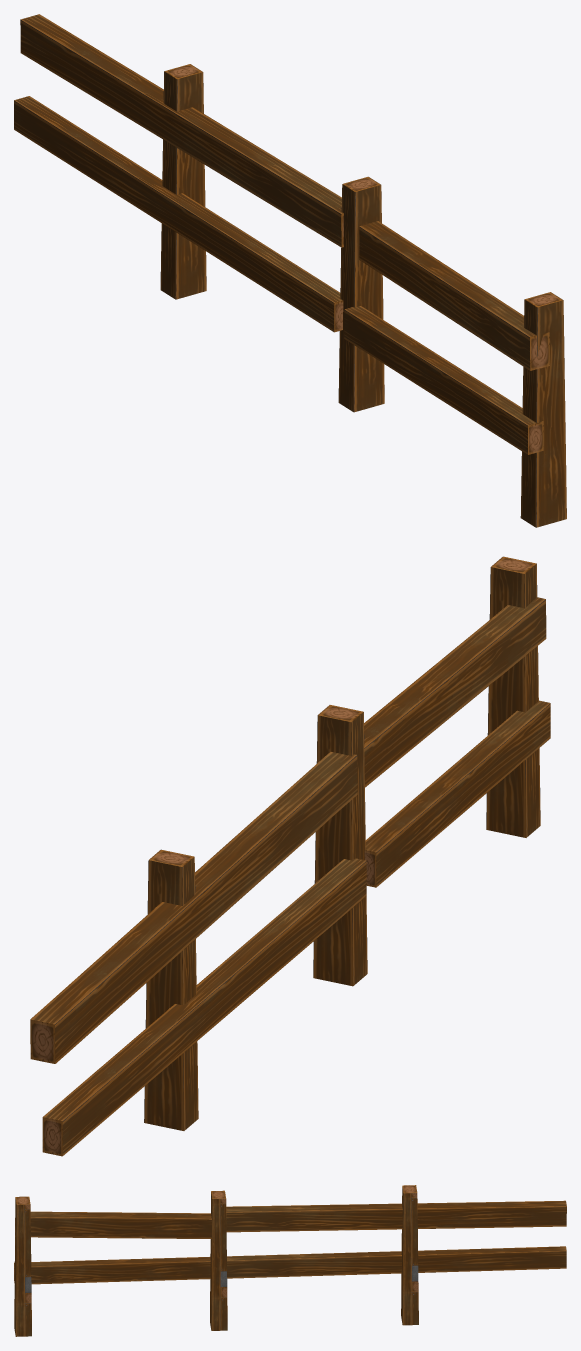
3 renders of one model, top to bottom at view 1: azimuth 30°, elevation 25°; view 2: azimuth 150°, elevation 25°; view 3: azimuth 270°, elevation 25°, orthographic. The views are drawn at different scales.
Visible parts, largest first — view 1: Cube.004; view 2: Cube.004; view 3: Cube.004.
Boxes of the visible parts, x1,y1,x2,y2 form: Cube.004: (14,14,566,527); Cube.004: (30,556,550,1156); Cube.004: (14,1185,566,1336).
Size of the model in its own units: 58.94 by 132 by 503.
Materials: 1 (1 with a texture image).
